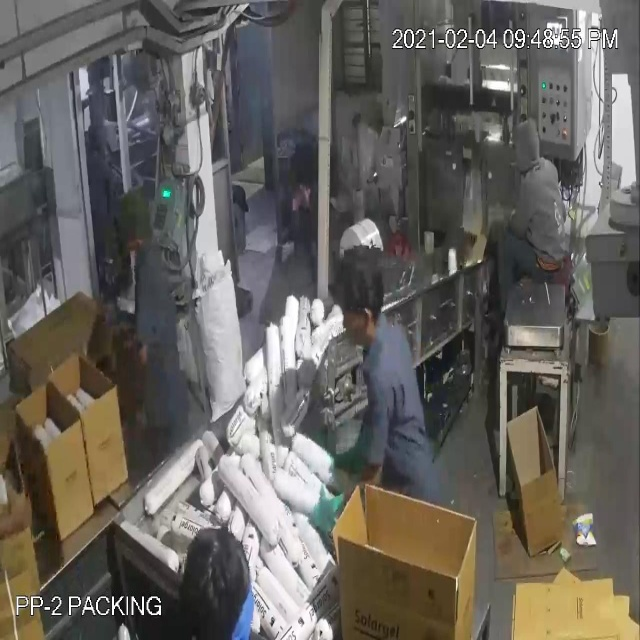Guantes: (299, 471, 356, 550)
